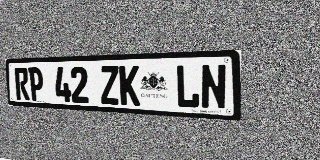2: (70, 66, 89, 103)
4: (54, 67, 72, 102)
K: (119, 65, 140, 106)
L: (175, 64, 200, 109)
N: (200, 64, 227, 110)
P: (28, 67, 44, 101)
R: (14, 67, 30, 100)
Z: (100, 66, 120, 105)
